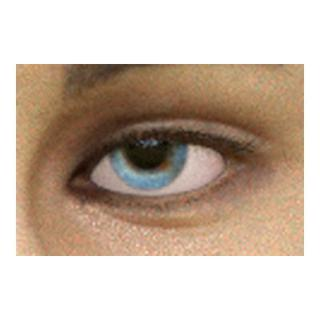pupil: (128, 130, 167, 169)
